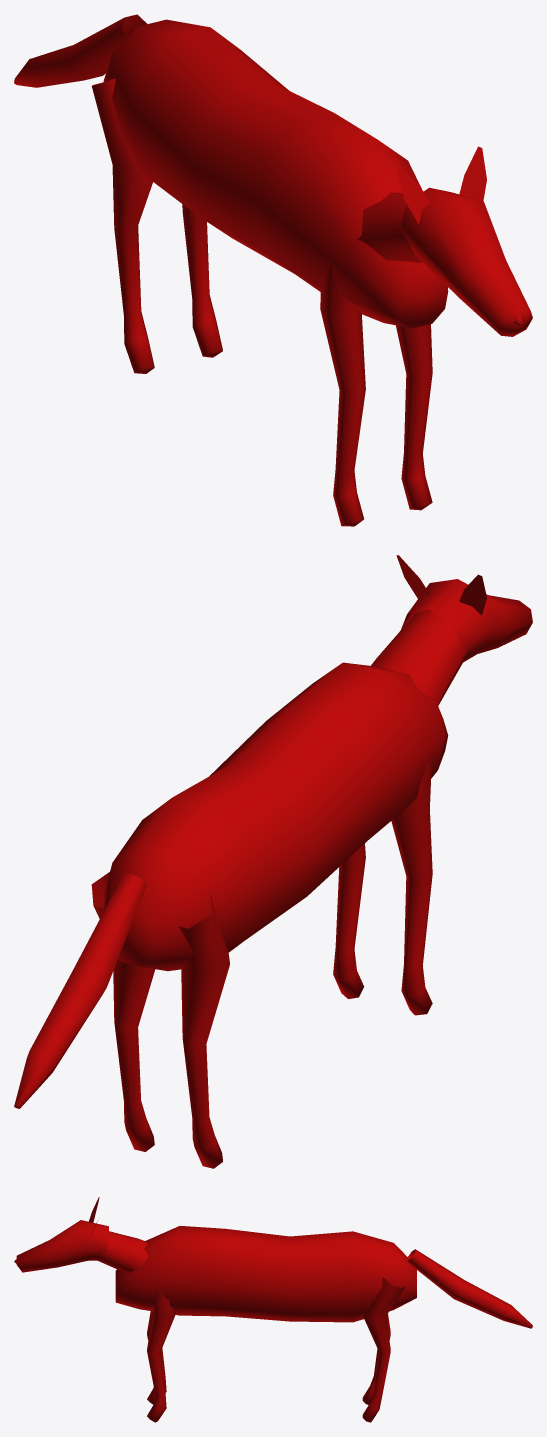
File: wolf.glb
The picture shows the model from 3 angles, top to bottom: view 1: azimuth 30°, elevation 25°; view 2: azimuth 150°, elevation 25°; view 3: azimuth 270°, elevation 25°; orthographic projection. The views are drawn at different scales.
Parts seen in each view (by area): view 1: body, head, leg_lf, leg_lh, leg_rf, tail, leg_rh; view 2: body, head, tail, leg_lh, leg_lf, leg_rh, leg_rf; view 3: body, head, tail, leg_rh, leg_rf, leg_lh, leg_lf.
Boxes of the visible parts, x1,y1,x2,y2 form: body: (103, 19, 448, 328); head: (357, 146, 532, 336); leg_lf: (320, 262, 365, 526); leg_lh: (91, 78, 154, 373); leg_rf: (396, 324, 432, 510); tail: (14, 14, 146, 87); leg_rh: (182, 204, 222, 357); body: (104, 662, 448, 971); head: (371, 555, 532, 709); tail: (14, 873, 147, 1108); leg_lh: (177, 891, 229, 1168); leg_lf: (391, 752, 432, 1015); leg_rh: (91, 872, 155, 1151); leg_rf: (333, 843, 365, 998); body: (115, 1226, 416, 1322); head: (14, 1197, 148, 1273); tail: (407, 1249, 532, 1328); leg_rh: (362, 1277, 404, 1422); leg_rf: (147, 1289, 175, 1422); leg_lh: (362, 1314, 390, 1404); leg_lf: (147, 1311, 166, 1404).
Bounding box in the file's own units: 0.3047 × 0.9414 × 2.15.
